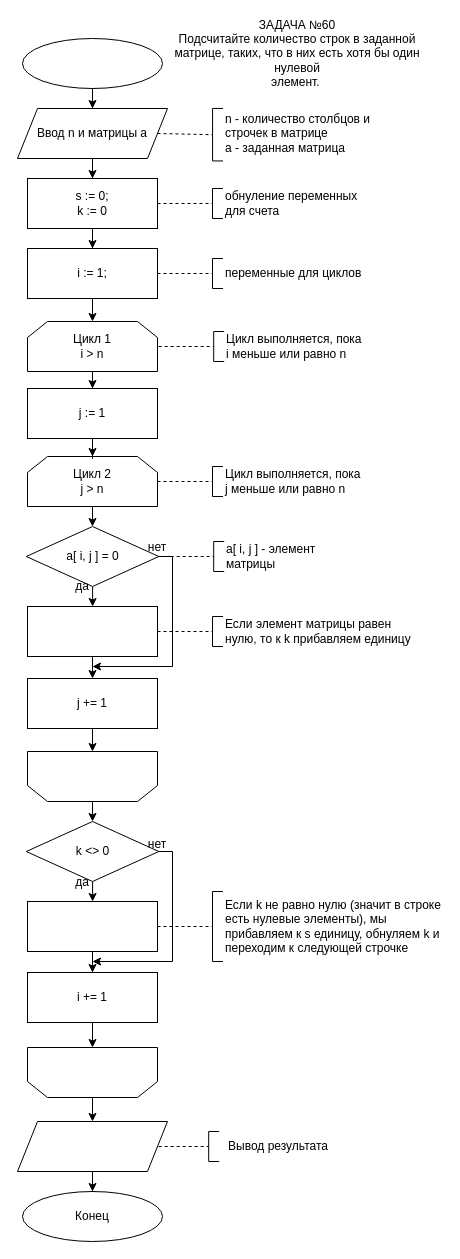
Some shapes in this 460 by 1259 pixel diagram are drawn without their labels. Each missing label, with the centre of its shape:
"k += 1" belongs at point (92, 631).
"s += 1; k := 0" belongs at point (92, 926).
"Вывод s" belongs at point (92, 1146).
"Начало" belongs at point (92, 63).
"Цикл 1" belongs at point (92, 1072).
"Цикл 2" belongs at point (92, 776).
